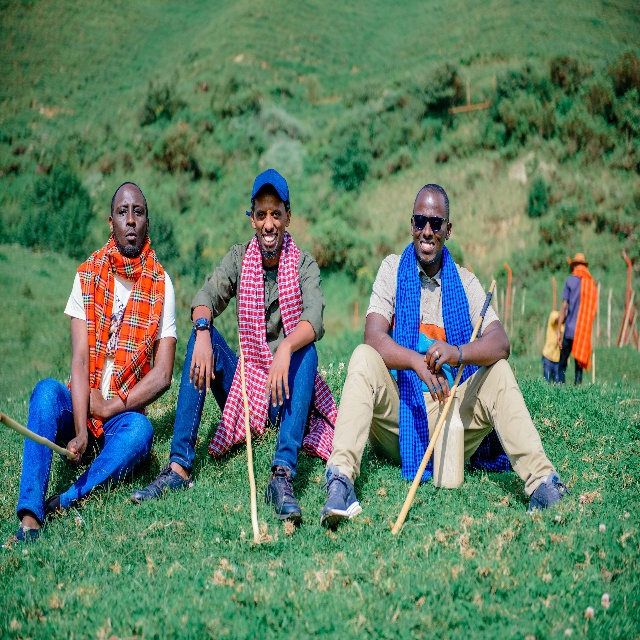Gafas: (412, 214, 448, 233)
Sin_guantes: (263, 341, 293, 408), (416, 352, 452, 405), (188, 329, 215, 394), (423, 339, 458, 376), (65, 432, 88, 464), (88, 386, 105, 421), (557, 331, 563, 350)
